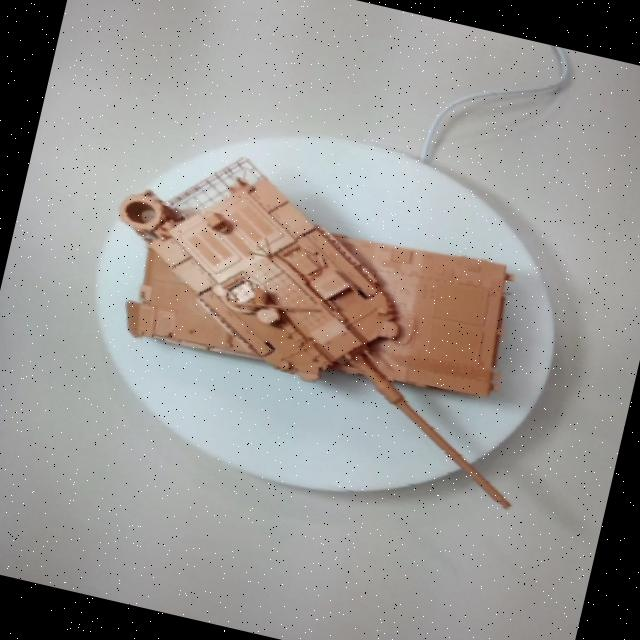korea tank: (42, 92, 640, 547)
